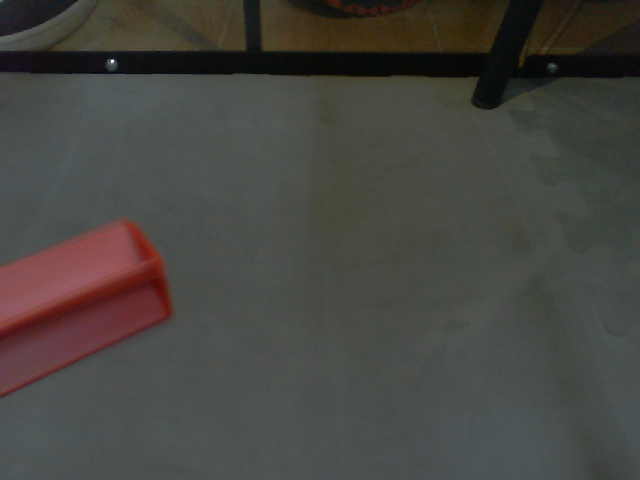RedSample: (1, 214, 177, 398)
